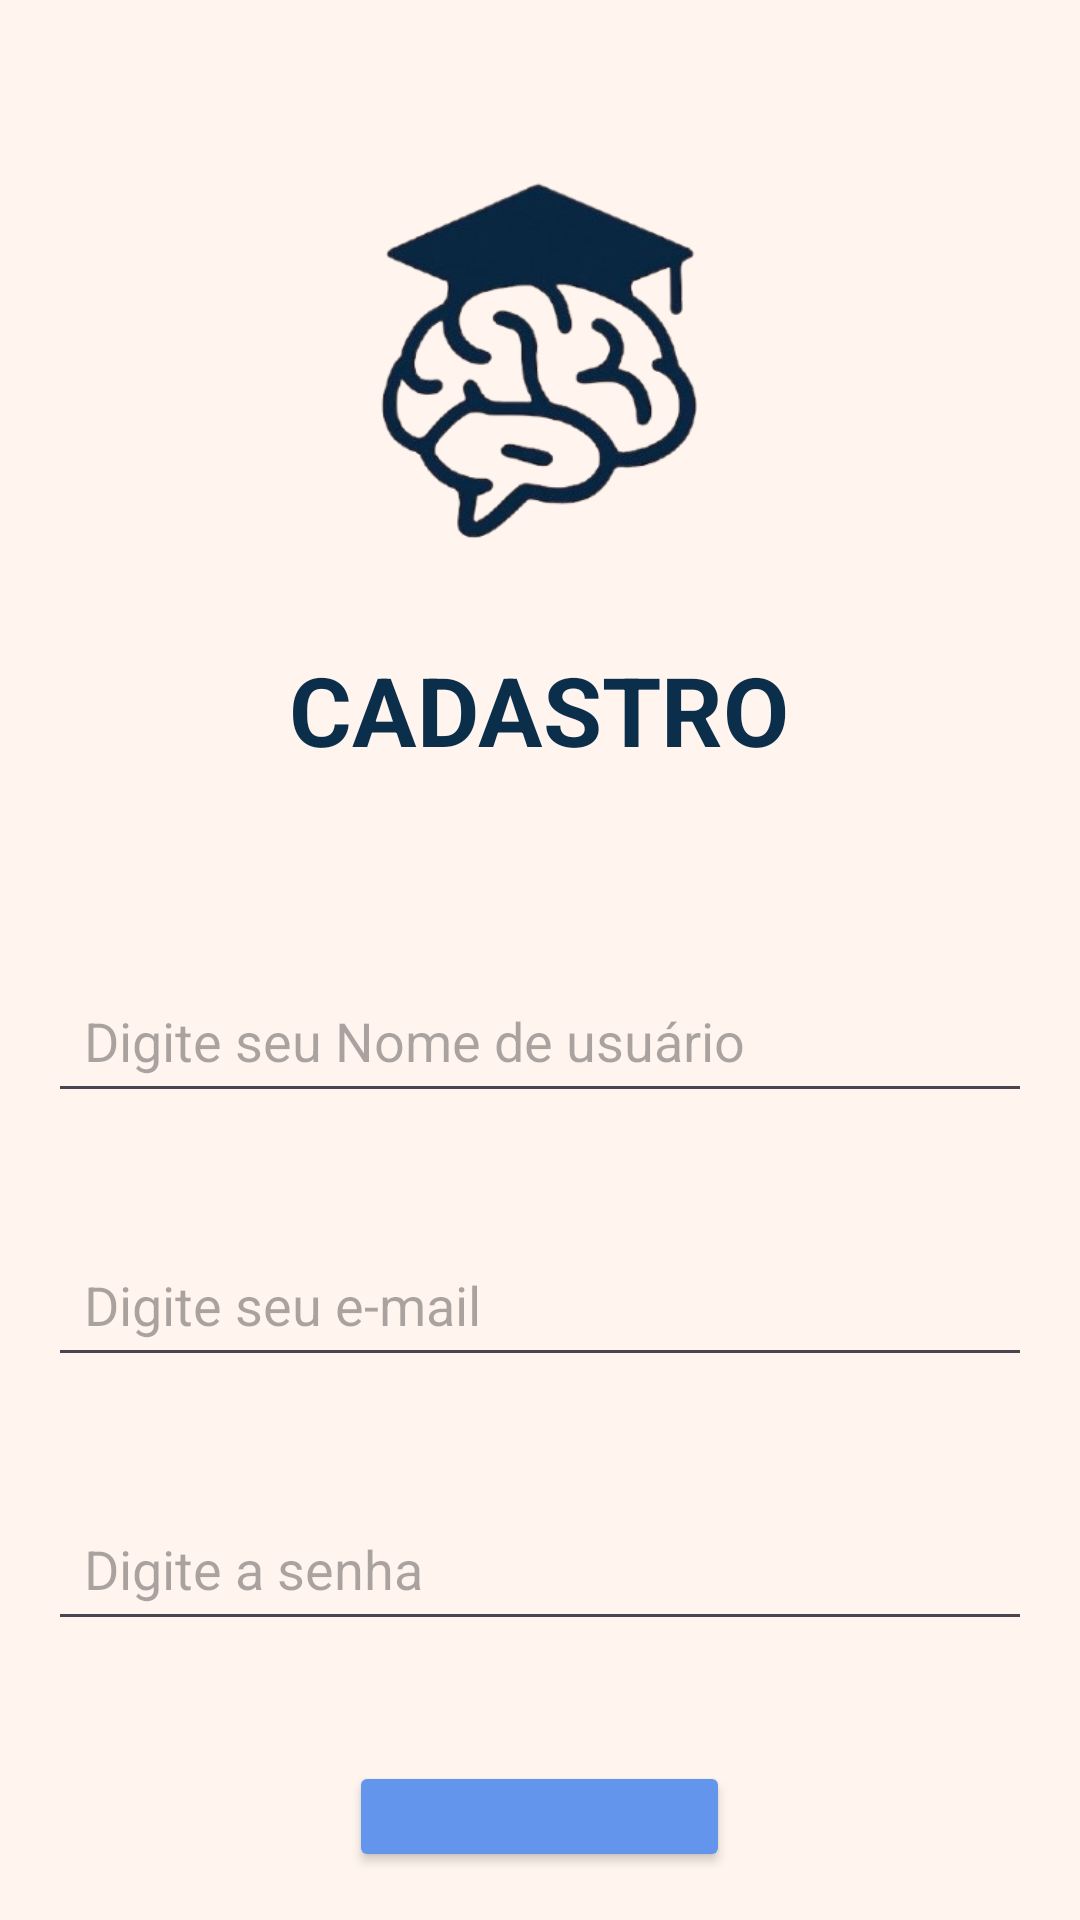

Named icons in this screenshot (1080 x 1920) and their bounding boxes, detection(x1, y1, x2, y2):
brain: detection(381, 183, 697, 538)
